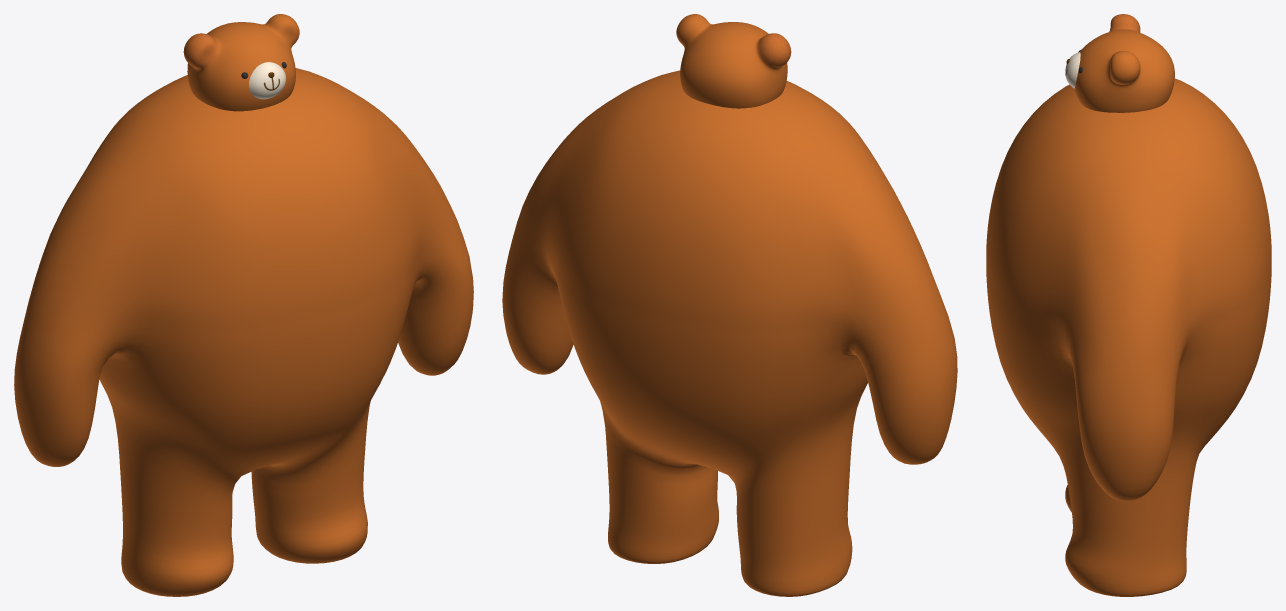
3 views of the same model, side by side, from view 1: azimuth 30°, elevation 25°; view 2: azimuth 150°, elevation 25°; view 3: azimuth 270°, elevation 25° (orthographic). The views are drawn at different scales.
Parts seen in each view (by area): view 1: big_props_2; view 2: big_props_2; view 3: big_props_2.
Part boxes in pixels (left/top/right/bottom): big_props_2: left=14, top=14, right=473, bottom=596; big_props_2: left=502, top=14, right=957, bottom=596; big_props_2: left=986, top=14, right=1271, bottom=596.
Size of the model in its own units: 9.02 by 10.45 by 5.29.
Materials: 1 (1 with a texture image).
